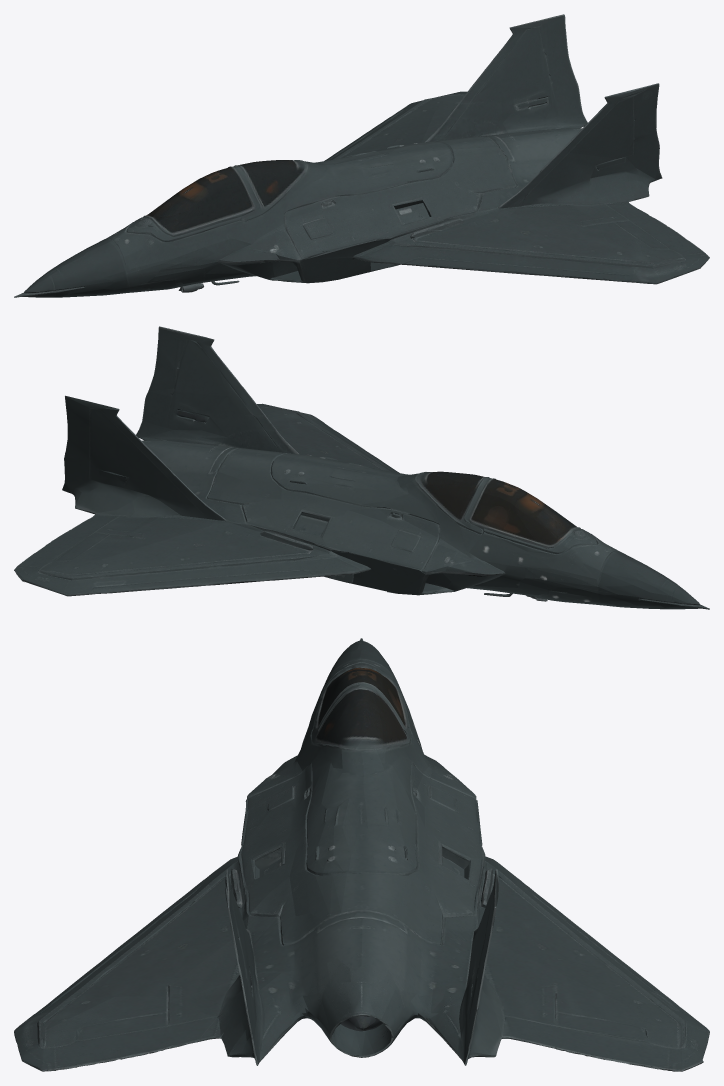
File: stealth-fighter.glb
3 renders of one model, top to bottom at view 1: azimuth 30°, elevation 25°; view 2: azimuth 150°, elevation 25°; view 3: azimuth 270°, elevation 25°, orthographic. The views are drawn at different scales.
Parts seen in each view (by area): view 1: output_unwrapped; view 2: output_unwrapped; view 3: output_unwrapped.
Boxes of the visible parts, x1,y1,x2,y2 form: output_unwrapped: [14, 14, 709, 297]; output_unwrapped: [14, 326, 709, 609]; output_unwrapped: [14, 638, 709, 1071].
Bounding box in the file's own units: 1.9 × 0.4592 × 1.32.
Materials: 1 (1 with a texture image).
